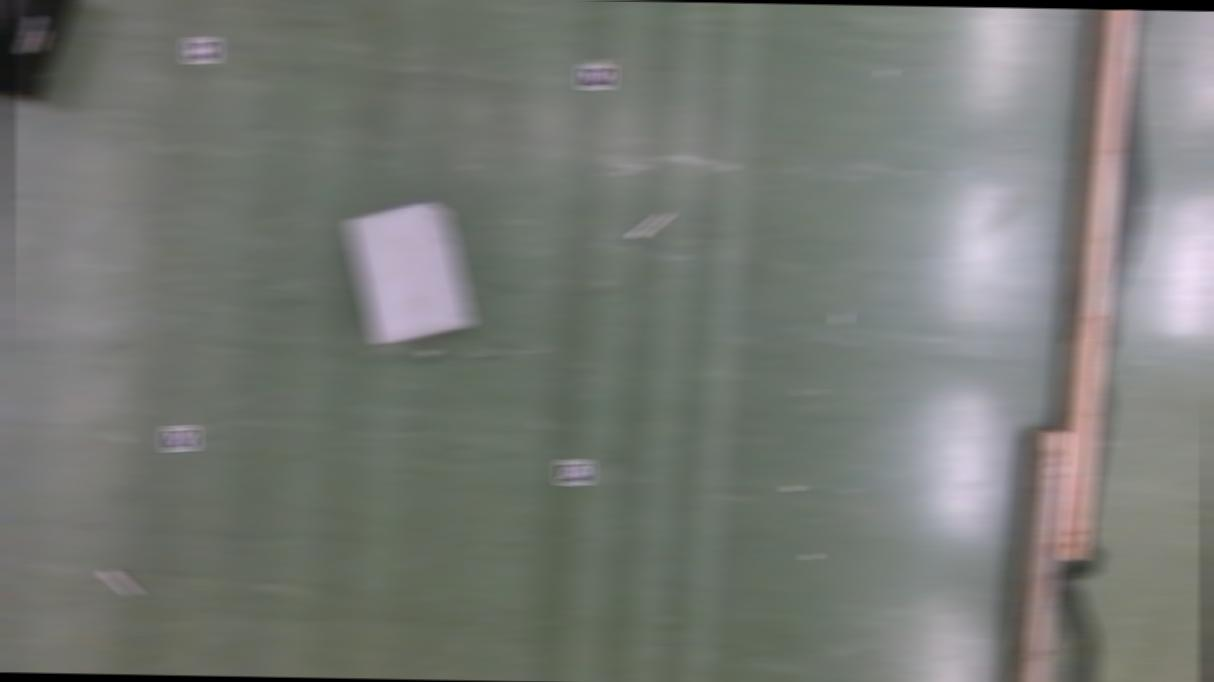probes: (103, 567, 140, 597), (632, 210, 668, 238)
rako: (342, 197, 476, 346), (0, 0, 77, 101)
